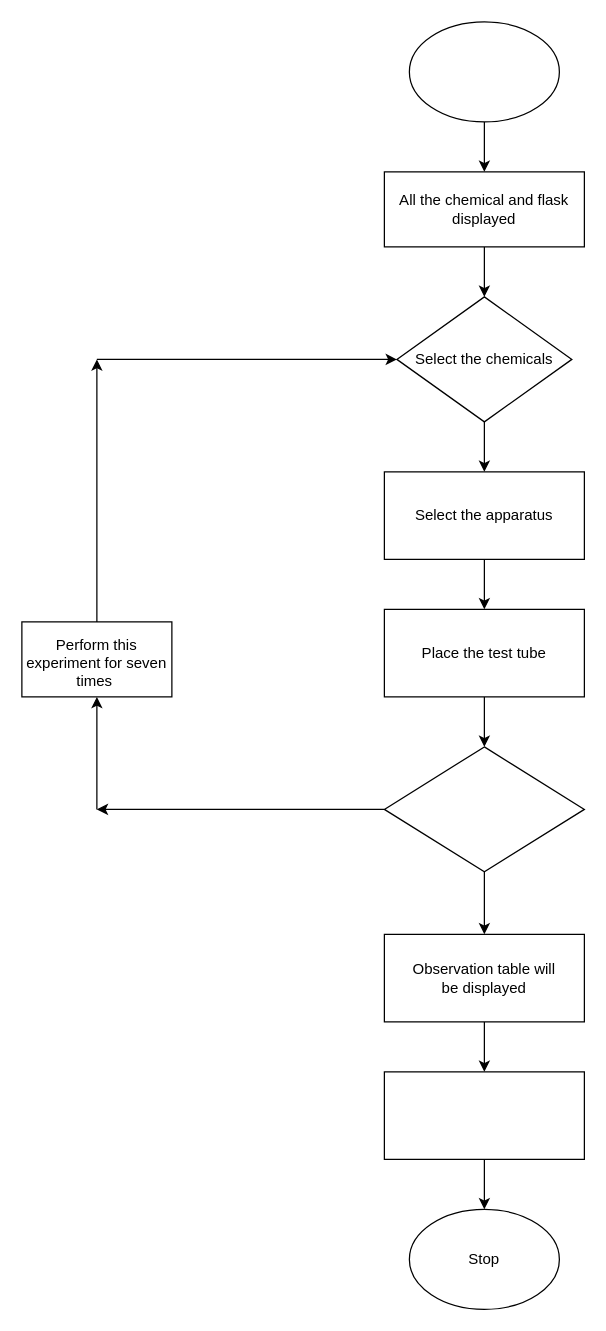
Image size: 606x1331. Some labels were removed from this diagram. The shapes that lost their labels are listed below. From the top down, each one's centre as x and y in pixels, then its label:
At pixel 483 71: "Start".
At pixel 483 809: "Note the reading".
At pixel 483 1115: "Graph will be plotted".
